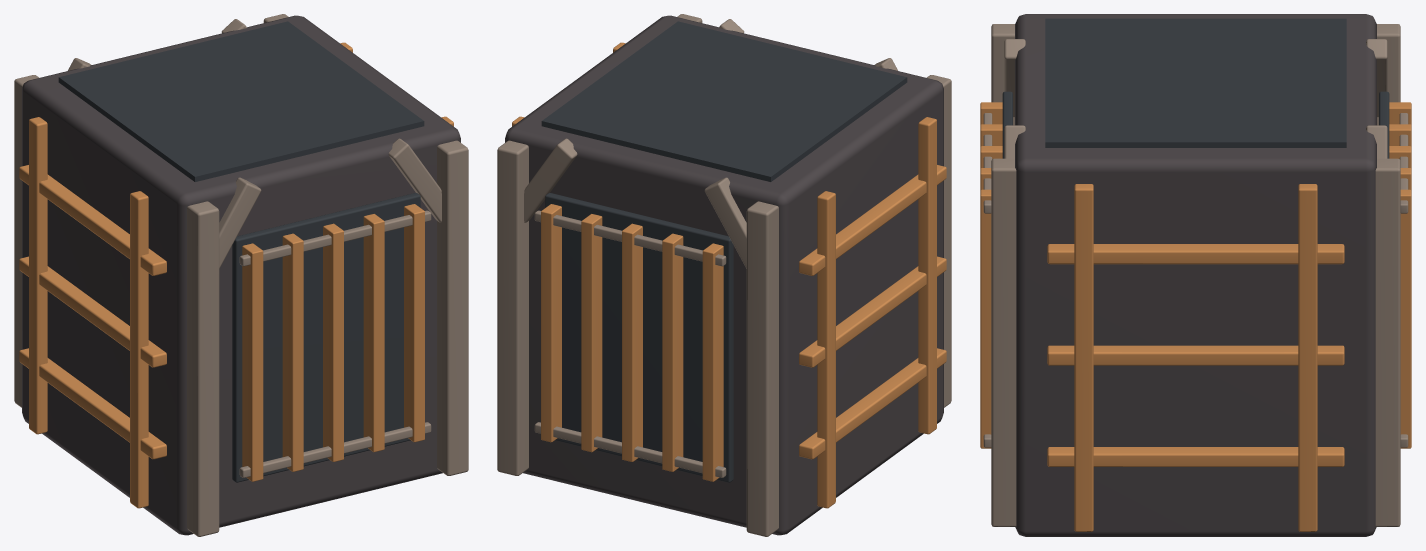
File: uplink-top-0.glb
3 renders of one model, left to right at view 1: azimuth 30°, elevation 25°; view 2: azimuth 150°, elevation 25°; view 3: azimuth 270°, elevation 25°, orthographic. The views are drawn at different scales.
Visible parts, largest first — view 1: uplink_0, uplink_2, uplink_3, uplink_1; view 2: uplink_0, uplink_2, uplink_3, uplink_1; view 3: uplink_0, uplink_2, uplink_3, uplink_1.
Part boxes in pixels (x1,y1,x2,y2): uplink_0: (22, 15, 460, 535); uplink_2: (58, 21, 424, 482); uplink_3: (19, 42, 453, 508); uplink_1: (14, 14, 468, 536); uplink_0: (505, 15, 943, 535); uplink_2: (541, 21, 907, 482); uplink_3: (512, 42, 946, 508); uplink_1: (497, 14, 951, 536); uplink_0: (1015, 14, 1376, 536); uplink_2: (1002, 18, 1389, 158); uplink_3: (980, 102, 1411, 531); uplink_1: (983, 24, 1408, 526).
Bounding box in the file's own units: 0.94 × 1 × 1.
